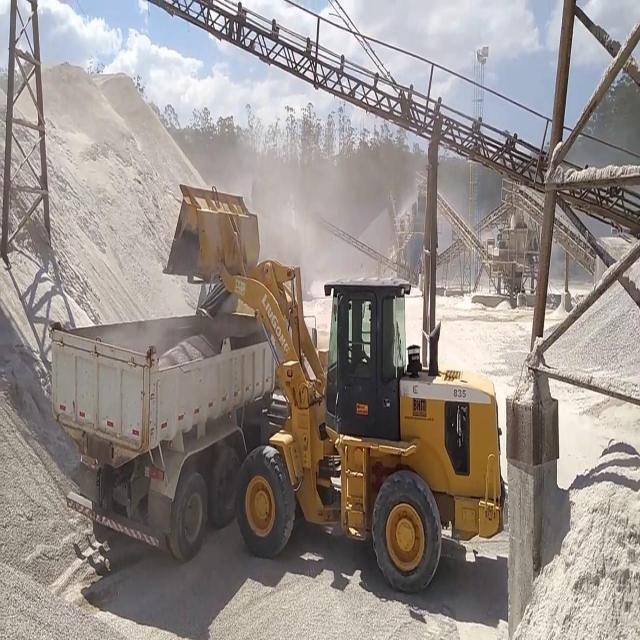Dump Truck: (49, 283, 317, 562)
Loader: (161, 183, 509, 591)
